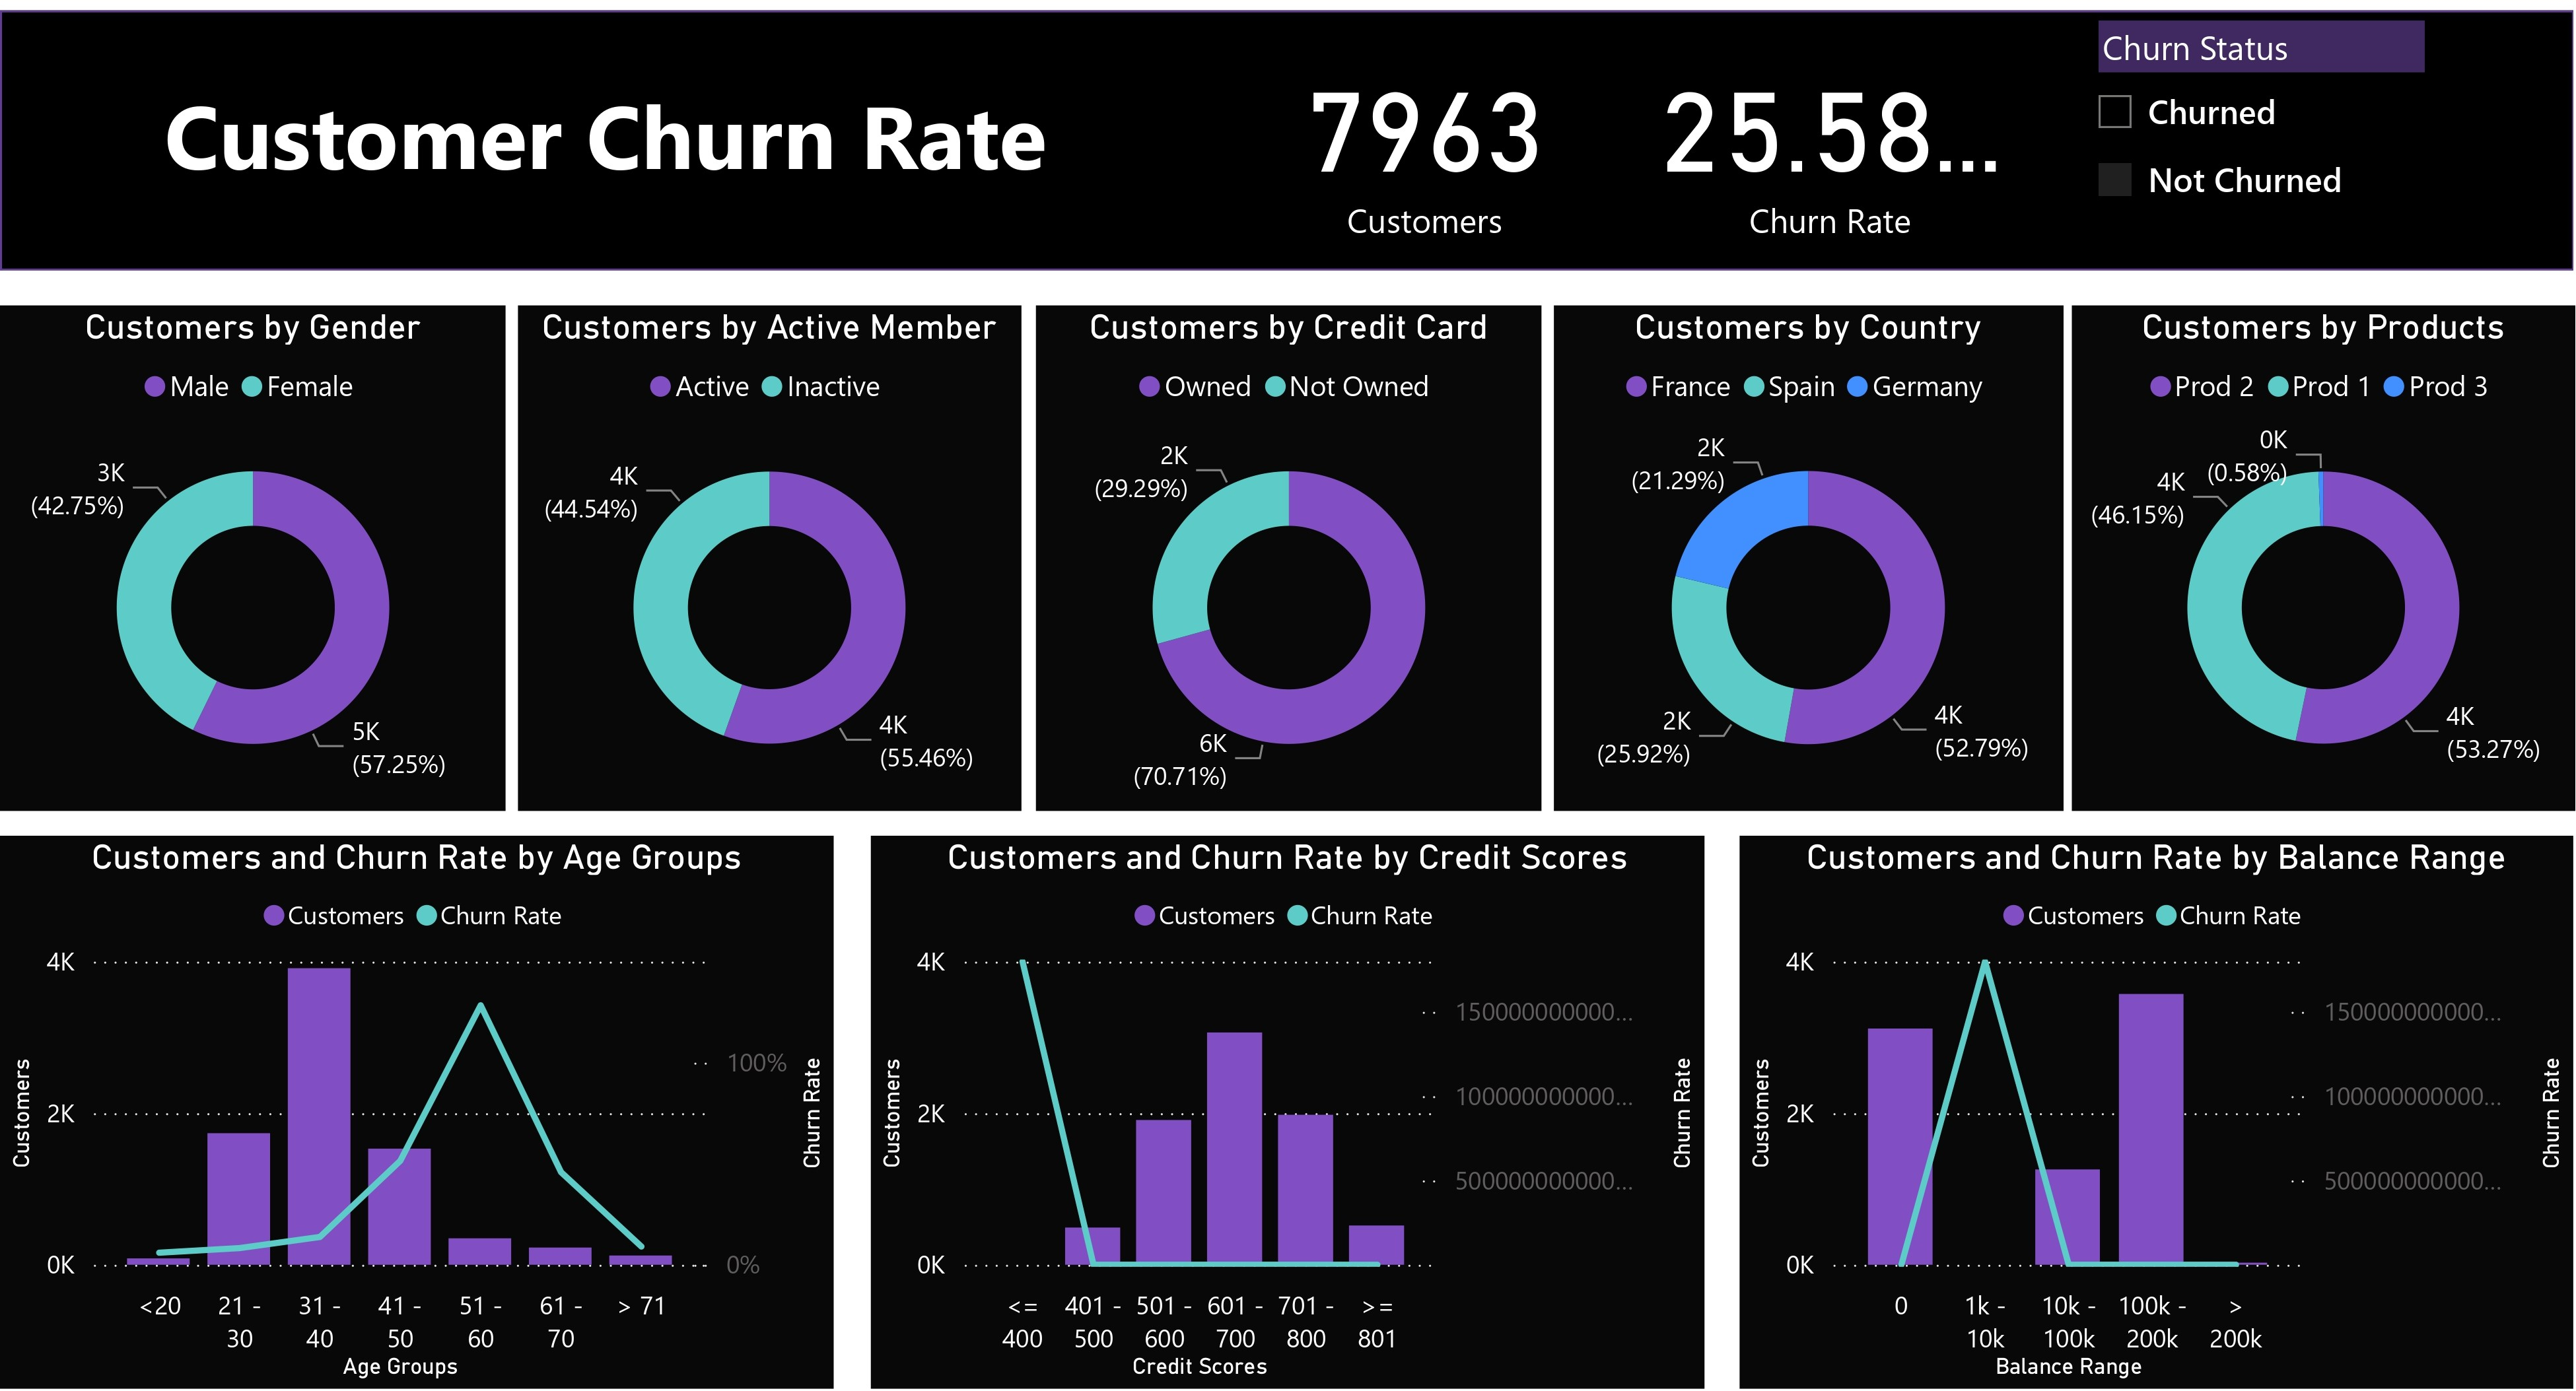

This screenshot's page, from the dashboard's own definition file:
{"tool":"powerbi","page":{"name":"Page 1","canvas":[1280,720],"ordinal":0},"visuals":[{"type":"shape","box":[0,0,1247.4,126.2],"z":0},{"type":"card","fields":{"Values":["Customer Data.Customers"]},"box":[417.1,0,207.1,125.7],"z":1000},{"type":"donutChart","fields":{"Y":["Customer Data.Customers"],"Category":["Customer Data.Gender"]},"box":[0,143.2,245.2,245.2],"z":3000},{"type":"donutChart","fields":{"Y":["Customer Data.Customers"],"Category":["Customer Data.Active Member"]},"box":[250.9,143.2,243.8,245.2],"z":4000},{"type":"donutChart","fields":{"Y":["Customer Data.Customers"],"Category":["Customer Data.Credit  Card"]},"box":[501.8,143.2,245.2,245.2],"z":5000},{"type":"donutChart","fields":{"Y":["Customer Data.Customers"],"Category":["Customer Data.Country"]},"box":[752.7,143.2,246.6,245.2],"z":6000},{"type":"donutChart","fields":{"Y":["Customer Data.Customers"],"Category":["Customer Data.Products"]},"box":[1003.6,143.2,243.8,245.2],"z":7000},{"type":"lineClusteredColumnComboChart","fields":{"Category":["Age Groups.Age Groups"],"Y":["Customer Data.Customers"],"Y2":["Customer Data.Churn Rate"]},"box":[0,399.7,404,267.9],"z":8000},{"type":"lineClusteredColumnComboChart","fields":{"Y":["Customer Data.Customers"],"Category":["Credit Score Groups.Credit Scores"],"Y2":["Customer Data.Churn Rate"]},"box":[422.4,399.7,404,267.9],"z":9000},{"type":"lineClusteredColumnComboChart","fields":{"Y":["Customer Data.Customers"],"Category":["Acc Balance Groups.Balance Range"],"Y2":["Customer Data.Churn Rate"]},"box":[843.4,399.7,404,267.9],"z":10000},{"type":"slicer","fields":{"Values":["Customer Data.Churn Status"]},"box":[842.9,18.6,184.3,88.6],"z":11000},{"type":"textbox","box":[0,0,372.9,125.7],"z":12000},{"type":"card","fields":{"Values":["Customer Data.Churn Rate"]},"box":[620,0,207.1,125.7],"z":12001},{"type":"gauge","fields":{"Y":["Customer Data.Churn Rate"],"MinValue":["Min(Customer Data.Min)"],"MaxValue":["Max(Customer Data.Max)"],"TargetValue":["Max(Customer Data.Target)"]},"box":[1034.3,0,212.9,125.7],"z":12002}]}

Visuals, with their boxes on the page's 1280x720 design canvas (x1, y1, x2, y2). These are canvas units, not pixel positions in the 2576x1391 screenshot, which may show the page scaled, cropped or inside an application window:
shape: (0,0,1247,126)
card - Customer Data.Customers: (417,0,624,126)
donutChart - Customer Data.Customers x Customer Data.Gender: (0,143,245,388)
donutChart - Customer Data.Customers x Customer Data.Active Member: (251,143,495,388)
donutChart - Customer Data.Customers x Customer Data.Credit  Card: (502,143,747,388)
donutChart - Customer Data.Customers x Customer Data.Country: (753,143,999,388)
donutChart - Customer Data.Customers x Customer Data.Products: (1004,143,1247,388)
lineClusteredColumnComboChart - Age Groups.Age Groups x Customer Data.Customers: (0,400,404,668)
lineClusteredColumnComboChart - Customer Data.Customers x Credit Score Groups.Credit Scores: (422,400,826,668)
lineClusteredColumnComboChart - Customer Data.Customers x Acc Balance Groups.Balance Range: (843,400,1247,668)
slicer - Customer Data.Churn Status: (843,19,1027,107)
textbox: (0,0,373,126)
card - Customer Data.Churn Rate: (620,0,827,126)
gauge - Customer Data.Churn Rate x Min(Customer Data.Min): (1034,0,1247,126)
